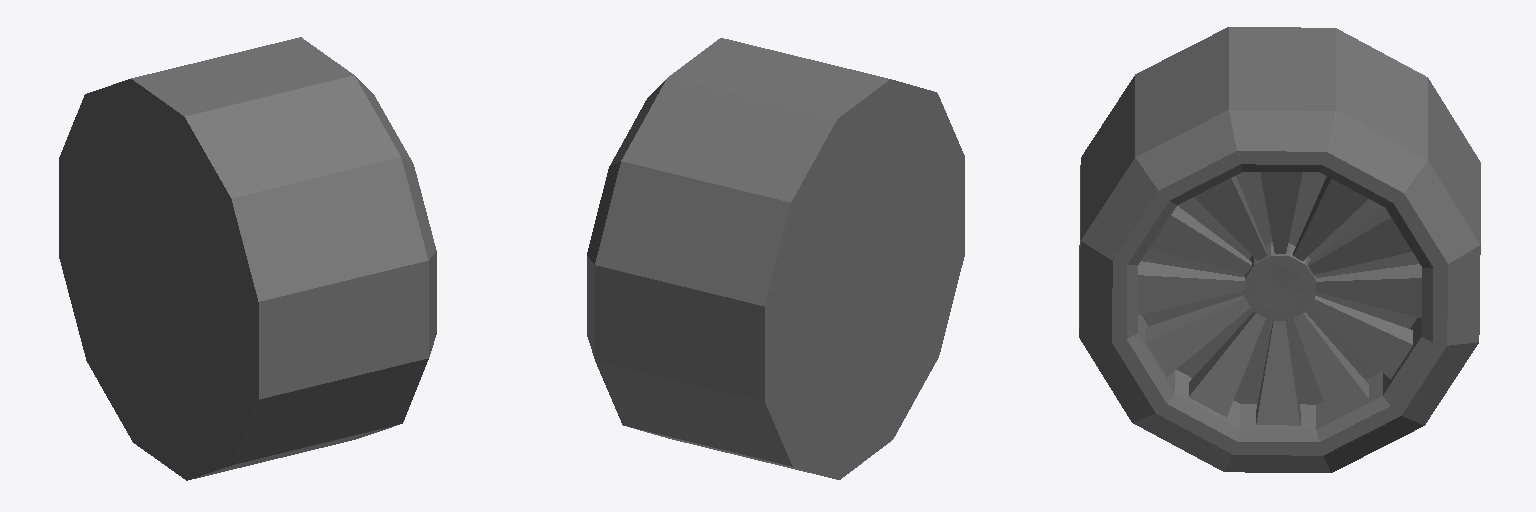
Rendered from BL_Wheels_1.obj.
The picture shows the model from 3 angles: view 1: azimuth 30°, elevation 25°; view 2: azimuth 150°, elevation 25°; view 3: azimuth 270°, elevation 25°; orthographic projection.
Visible parts, largest first — view 1: wheel_LB; view 2: wheel_LB; view 3: wheel_LB.
Boxes of the visible parts, x1,y1,x2,y2 form: wheel_LB: [59, 37, 436, 480]; wheel_LB: [587, 38, 964, 479]; wheel_LB: [1079, 27, 1480, 472].
Size of the model in its own units: 1.51 by 2.7 by 2.7.